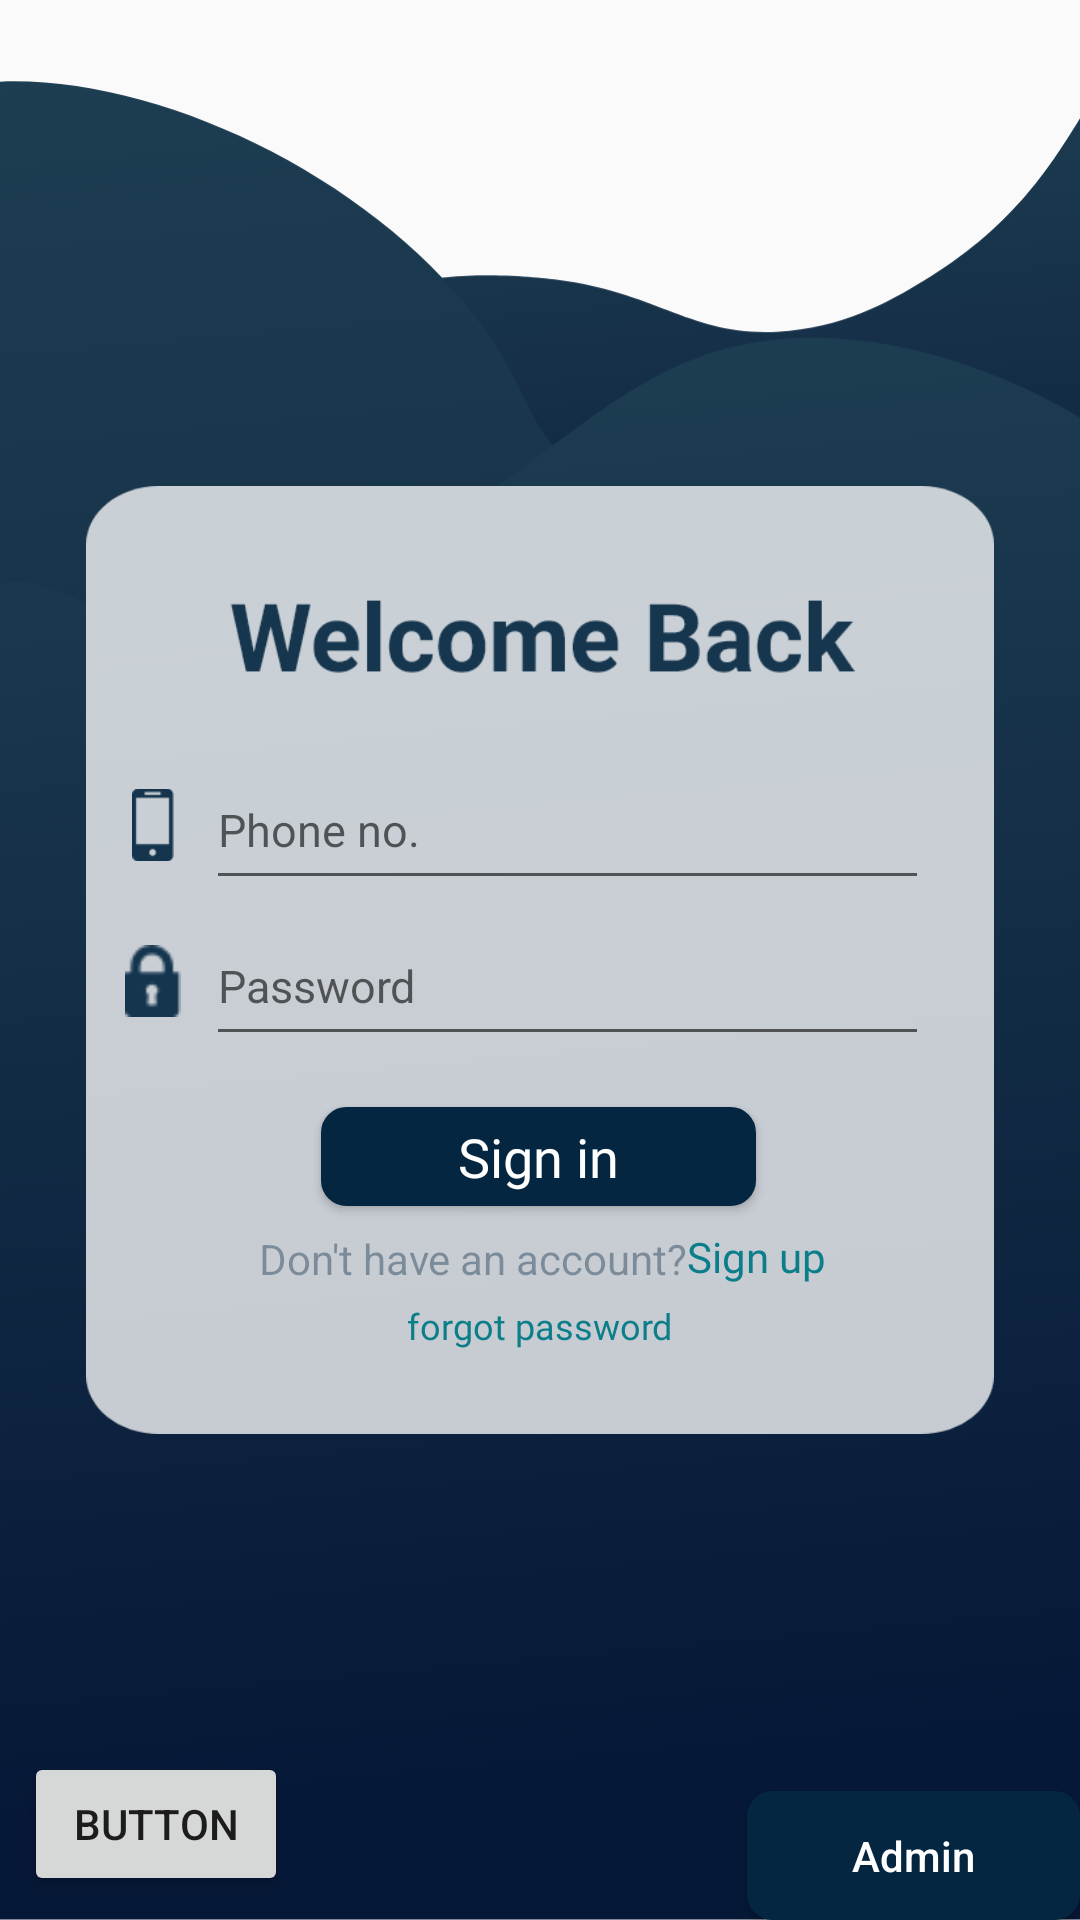

Screen size 1080px x 1920px. Icon name, then its box in pixels as {"x1": x1, "y1": y1, "x2": x2, "y2": y2}:
smartphone: {"x1": 132, "y1": 789, "x2": 174, "y2": 861}
